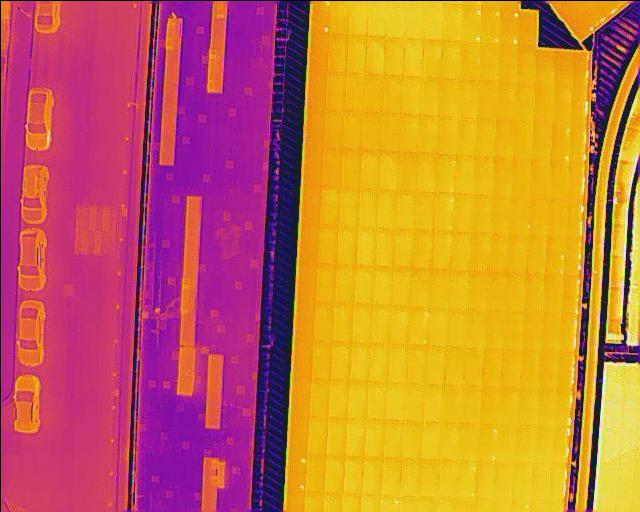Cell: (310, 1, 328, 32)
Cell-Multi: (550, 119, 569, 160), (476, 424, 498, 459), (480, 8, 501, 44), (288, 450, 307, 489), (545, 236, 564, 274), (456, 459, 475, 497), (556, 349, 574, 387), (499, 10, 518, 45), (563, 236, 580, 274), (561, 274, 578, 311), (461, 8, 479, 42)
No-Anomaly: (436, 78, 459, 116), (531, 120, 552, 160), (314, 263, 335, 303), (336, 224, 357, 264), (374, 227, 395, 267), (399, 113, 421, 151), (436, 116, 458, 154), (364, 36, 386, 74), (326, 33, 348, 71), (407, 305, 428, 344), (449, 269, 470, 308), (418, 458, 439, 497), (396, 189, 417, 228), (434, 191, 455, 230), (383, 37, 405, 74), (387, 342, 407, 382), (359, 149, 379, 189), (378, 150, 398, 190), (381, 456, 401, 496), (488, 232, 508, 272), (431, 229, 451, 269), (356, 226, 376, 266), (317, 223, 337, 263), (343, 72, 364, 110), (476, 80, 497, 118), (420, 77, 441, 115), (498, 386, 519, 424), (327, 379, 348, 417), (308, 32, 329, 70), (345, 34, 366, 72), (323, 454, 344, 492), (507, 234, 528, 272), (480, 386, 500, 425), (540, 311, 560, 350), (367, 342, 387, 381), (311, 340, 331, 379), (456, 116, 476, 155), (323, 109, 343, 148), (397, 151, 417, 190), (491, 195, 511, 234), (526, 234, 546, 273), (334, 264, 354, 303), (297, 263, 317, 302), (413, 229, 433, 268), (451, 231, 471, 270), (454, 192, 474, 231), (301, 185, 321, 224), (510, 158, 530, 197), (403, 38, 424, 75), (421, 421, 442, 458), (342, 112, 363, 149), (383, 419, 404, 456), (337, 188, 358, 225), (357, 189, 378, 226), (377, 190, 398, 227), (319, 187, 340, 224), (381, 112, 401, 150), (495, 81, 515, 119), (363, 74, 383, 112), (382, 74, 402, 112), (475, 118, 495, 156), (518, 386, 537, 426), (372, 266, 392, 304), (403, 383, 423, 421), (423, 383, 443, 421), (443, 346, 463, 384), (292, 340, 312, 378), (447, 308, 467, 346), (542, 274, 562, 312), (486, 272, 506, 310), (419, 114, 439, 152), (422, 39, 442, 77), (417, 153, 437, 191), (321, 148, 341, 186), (494, 119, 514, 157), (345, 418, 365, 456), (364, 419, 384, 457), (455, 154, 475, 192), (415, 191, 435, 229), (530, 160, 550, 198), (325, 72, 346, 108), (326, 417, 347, 453), (500, 348, 519, 387), (406, 344, 425, 383), (463, 347, 482, 386), (521, 311, 540, 350), (391, 266, 410, 305), (352, 303, 371, 342), (371, 303, 390, 342), (341, 148, 360, 187), (474, 155, 493, 194), (547, 197, 566, 236), (514, 82, 534, 119), (485, 310, 505, 347), (442, 385, 462, 422), (365, 381, 385, 418), (309, 378, 329, 415), (428, 308, 448, 345), (332, 304, 352, 341), (410, 268, 430, 305), (533, 424, 553, 461), (441, 422, 461, 459), (361, 112, 381, 149), (305, 453, 325, 490), (362, 456, 382, 493), (401, 77, 422, 112), (347, 379, 366, 417), (385, 382, 404, 420), (504, 310, 523, 348), (481, 347, 500, 385), (425, 345, 444, 383), (331, 341, 350, 379), (349, 342, 368, 380), (505, 272, 524, 310), (466, 309, 485, 347), (524, 272, 543, 310), (314, 303, 333, 341), (430, 269, 449, 307), (459, 422, 478, 460), (436, 154, 455, 192), (513, 120, 532, 158), (493, 157, 512, 195), (529, 197, 548, 235), (394, 228, 413, 266), (510, 197, 529, 235), (472, 194, 491, 232), (512, 461, 531, 499), (457, 80, 477, 116), (537, 350, 557, 386), (305, 108, 323, 148), (401, 458, 419, 498), (307, 416, 327, 452), (471, 231, 489, 271), (343, 455, 362, 492), (308, 71, 327, 108), (519, 349, 538, 386), (497, 45, 516, 82), (460, 42, 479, 79), (441, 41, 460, 78), (517, 11, 536, 48), (402, 420, 421, 457), (303, 148, 322, 185), (549, 161, 568, 198), (475, 461, 494, 498), (493, 462, 512, 499), (300, 224, 318, 263), (533, 84, 553, 119), (516, 48, 536, 83), (496, 426, 516, 461), (537, 386, 555, 424), (291, 379, 310, 415), (295, 302, 313, 340), (479, 44, 498, 80), (290, 415, 309, 451), (353, 265, 371, 303), (531, 462, 549, 500), (461, 386, 479, 423), (390, 305, 408, 342), (468, 271, 486, 308), (438, 459, 456, 496), (535, 50, 554, 85), (515, 425, 534, 460), (553, 51, 571, 86), (567, 161, 584, 198), (442, 7, 461, 40), (553, 85, 571, 119), (347, 4, 367, 34), (404, 7, 423, 38), (385, 6, 404, 37), (366, 5, 385, 36), (423, 8, 442, 38), (329, 3, 348, 33)
Unclassified: (569, 119, 586, 161), (550, 424, 569, 461), (565, 197, 583, 236), (553, 386, 571, 424), (549, 461, 566, 499), (571, 50, 588, 86), (559, 312, 575, 350), (569, 87, 587, 120)
